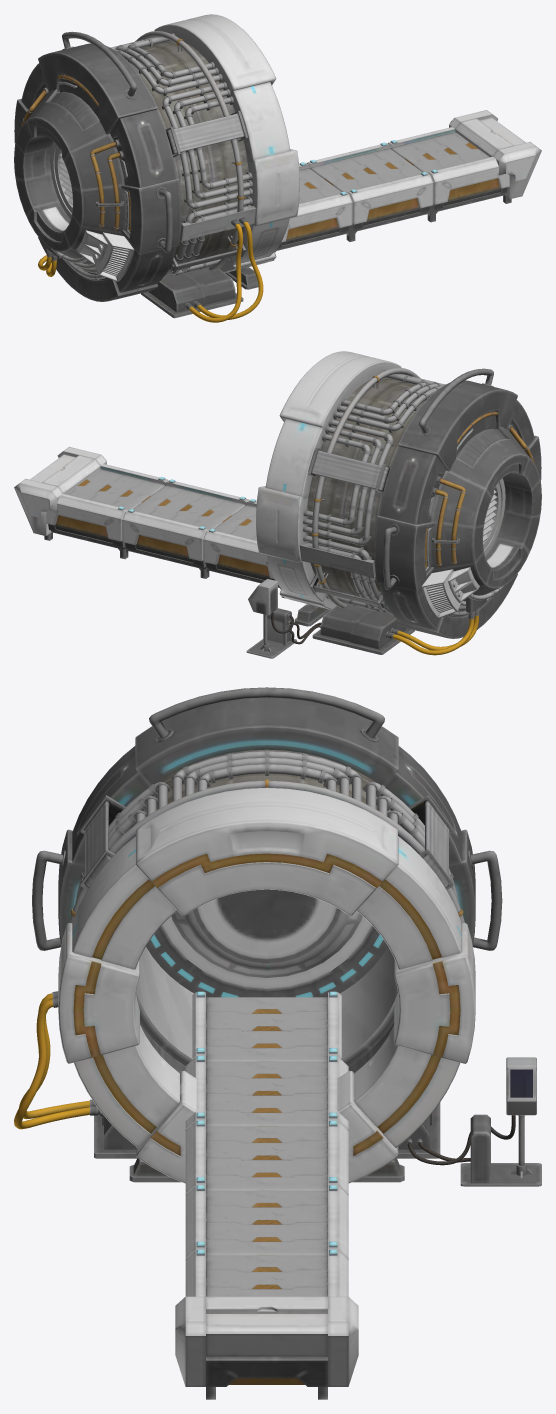
File: SM_ItemTransporter_537744.glb
3 renders of one model, top to bottom at view 1: azimuth 30°, elevation 25°; view 2: azimuth 150°, elevation 25°; view 3: azimuth 270°, elevation 25°, orthographic. The views are drawn at different scales.
Size of the model in its own units: 8.7 by 4.36 by 5.19.
Materials: 4 (4 with a texture image).
